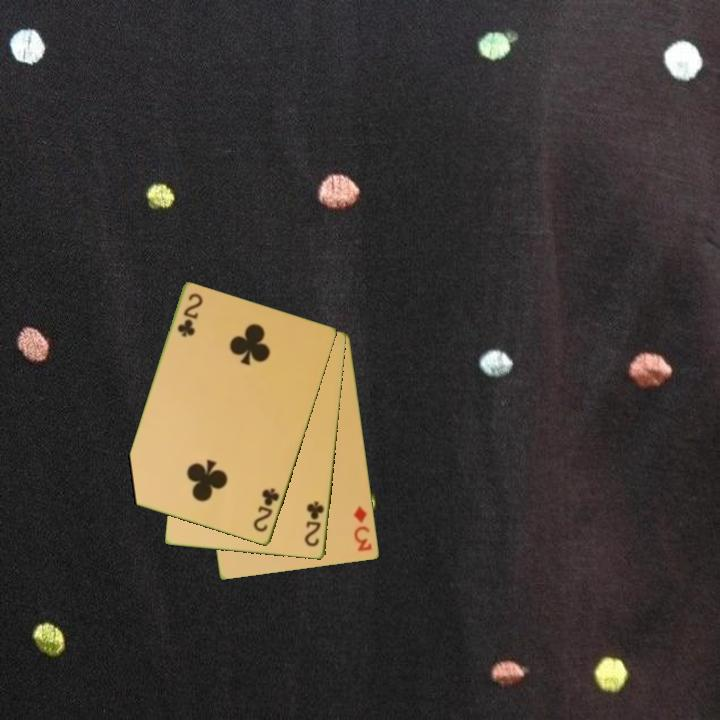2c: (250, 485, 283, 535), (174, 290, 206, 341), (301, 498, 327, 550)
3d: (351, 502, 375, 554)
